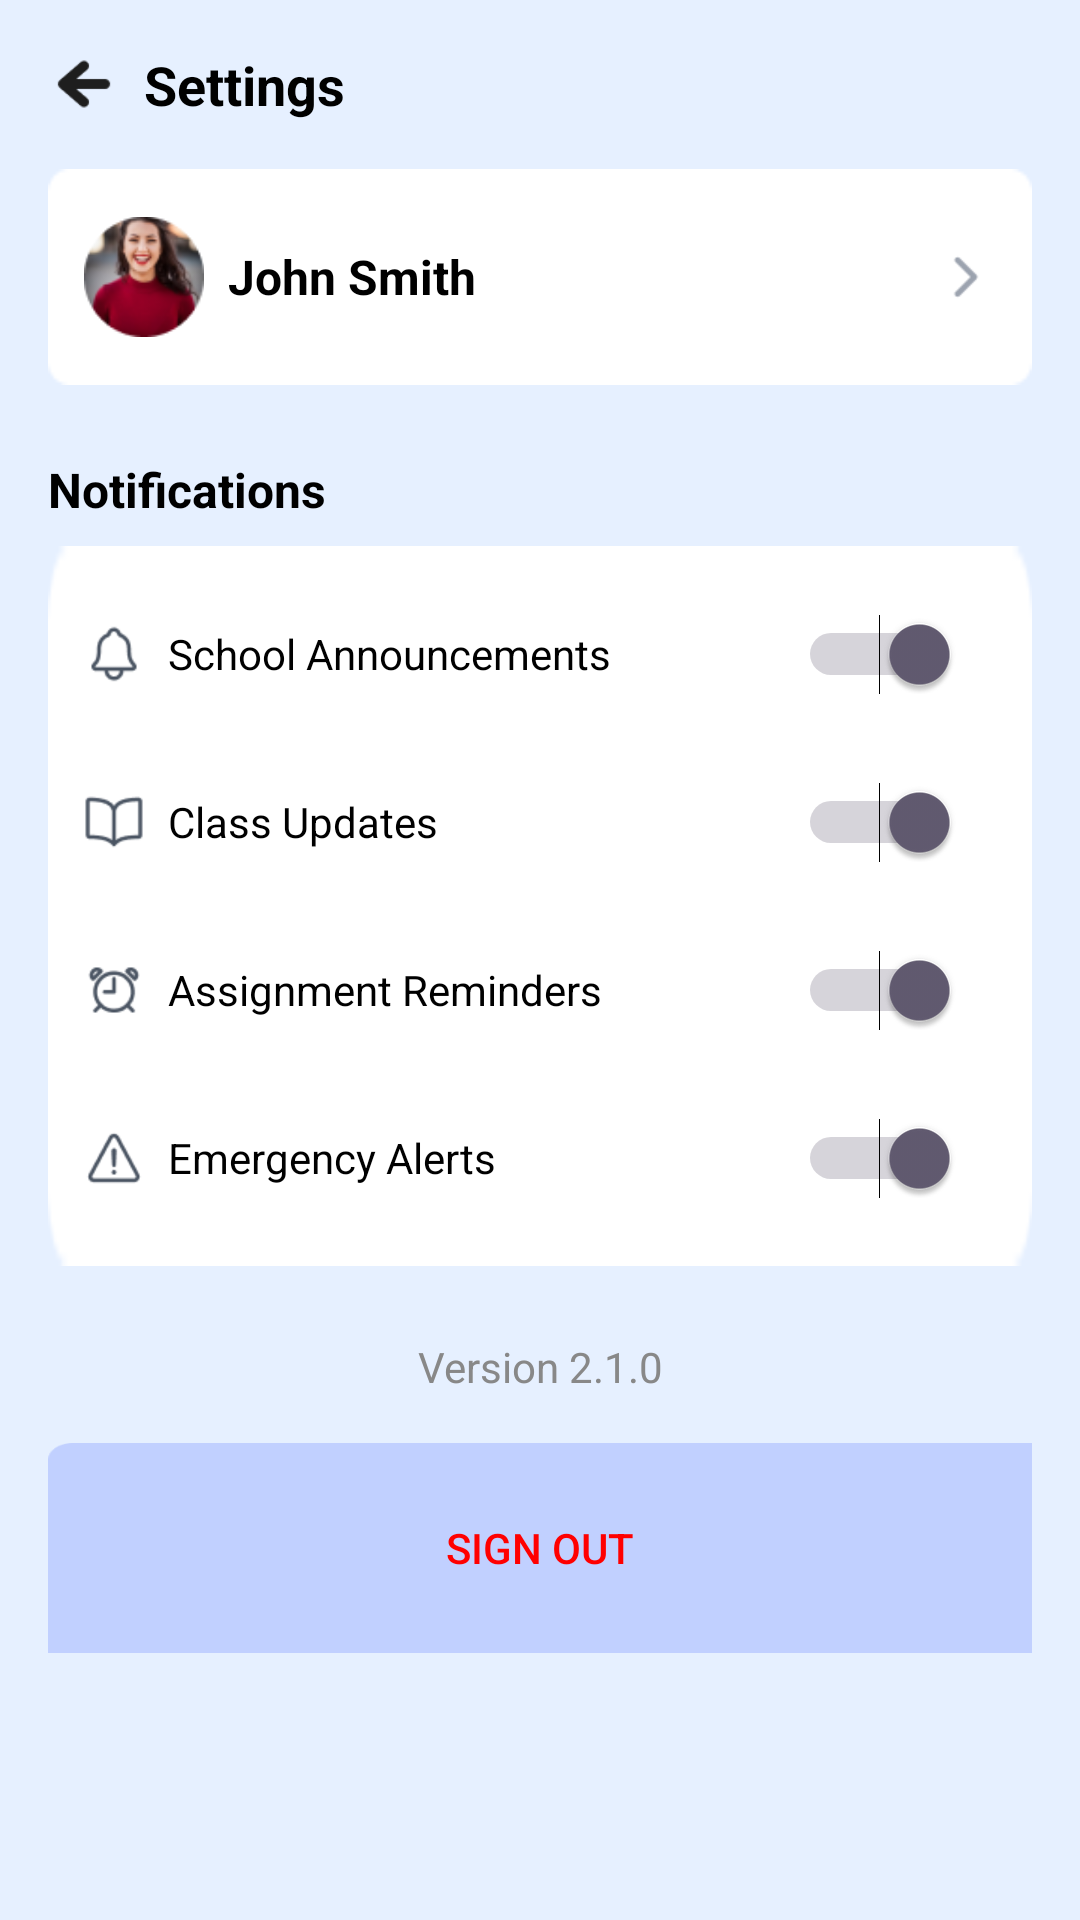

Named icons in this screenshot (1080 × 1920) and their bounding boxes, detection(x1, y1, x2, y2):
Alert Icon: detection(88, 1133, 140, 1183)
Announcement Icon: detection(91, 627, 137, 681)
Arrow: detection(954, 257, 978, 297)
Back: detection(57, 60, 111, 108)
Class Update Icon: detection(85, 797, 143, 847)
Profile Picture: detection(84, 217, 204, 337)
